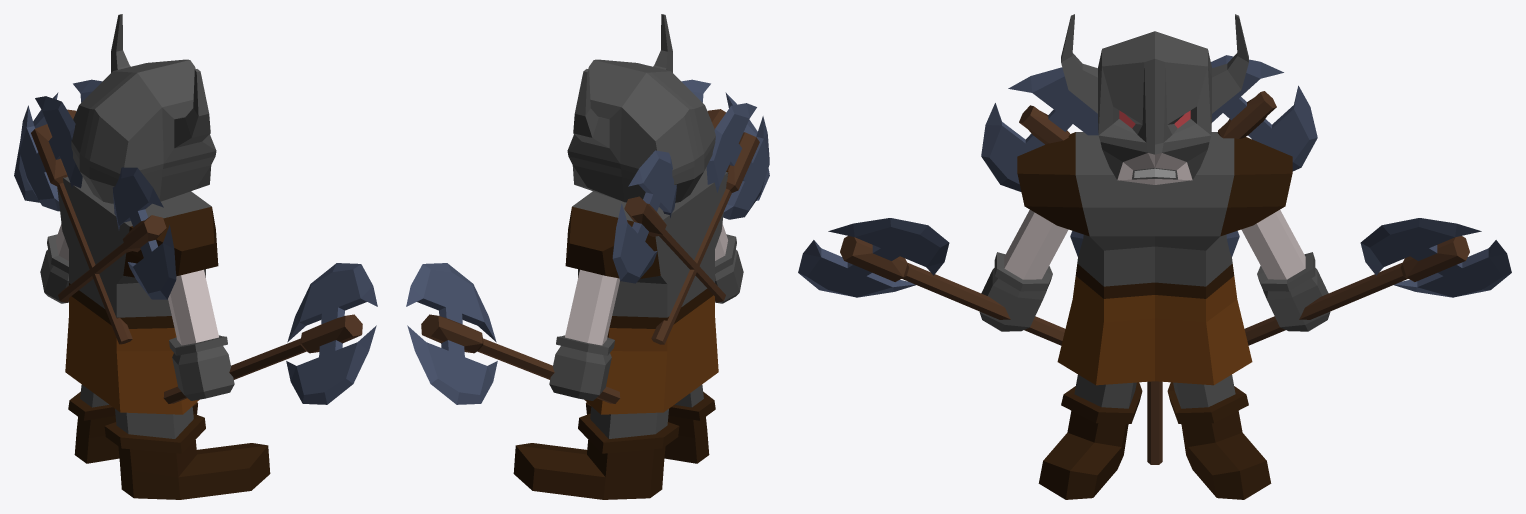
File: barbarian v1.fbx
The picture shows the model from 3 angles, left to right: view 1: azimuth 30°, elevation 25°; view 2: azimuth 150°, elevation 25°; view 3: azimuth 270°, elevation 25°; orthographic projection. The views are drawn at different scales.
Parts seen in each view (by area): view 1: Cube.001; view 2: Cube.001; view 3: Cube.001, Cube.002.
Part boxes in pixels (x1=…): Cube.001: x1=14, y1=14, x2=377, y2=499; Cube.001: x1=406, y1=14, x2=769, y2=499; Cube.001: x1=798, y1=14, x2=1511, y2=499; Cube.002: x1=1070, y1=231, x2=1239, y2=464.
Size of the model in its own units: 290 by 775 by 1094.
